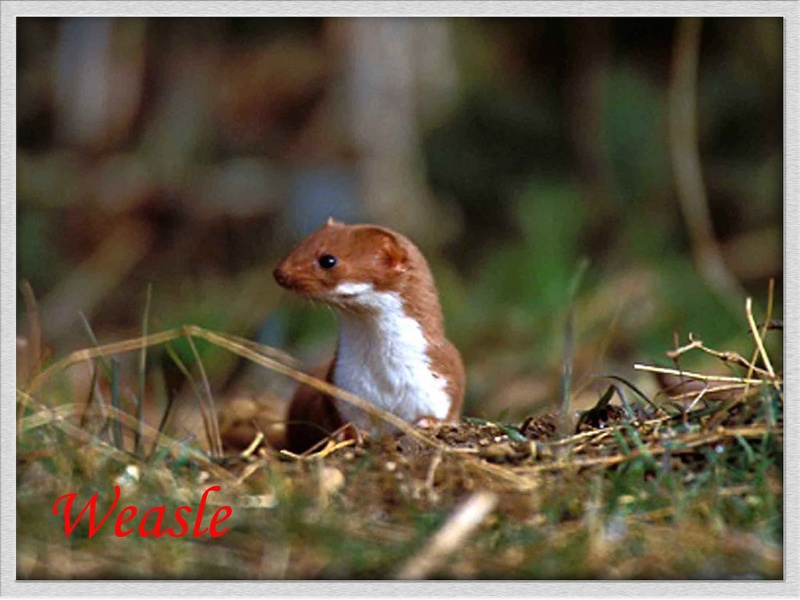minkish: (257, 216, 472, 455)
